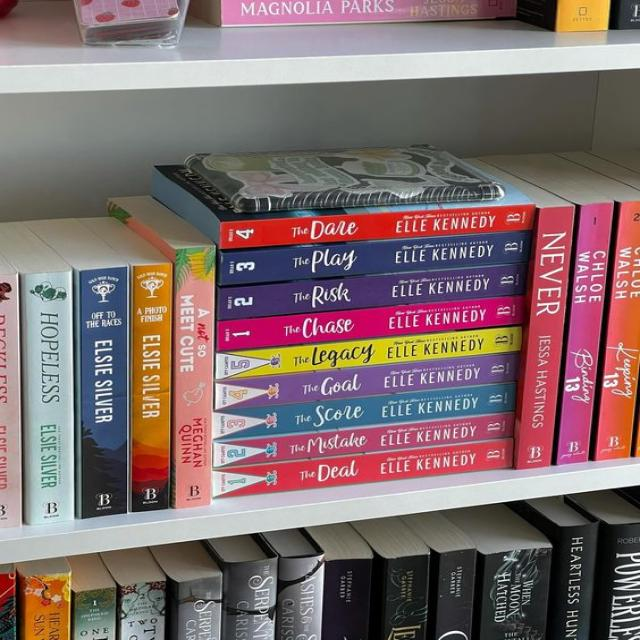book: (212, 439, 512, 497), (212, 381, 515, 438), (218, 295, 526, 351), (214, 412, 513, 469), (219, 265, 527, 319), (216, 354, 516, 409), (218, 327, 522, 380), (220, 234, 530, 285), (554, 203, 613, 464), (515, 205, 573, 468), (74, 268, 129, 518), (20, 271, 74, 524), (221, 205, 536, 248), (593, 201, 639, 459), (130, 263, 171, 510), (175, 247, 211, 506), (0, 274, 22, 527), (485, 555, 547, 640), (557, 525, 597, 640), (223, 561, 278, 640), (323, 559, 375, 640), (380, 555, 429, 640), (606, 525, 640, 640), (279, 557, 320, 640), (435, 549, 471, 640), (23, 575, 68, 640), (175, 582, 223, 640), (120, 586, 165, 640), (76, 593, 116, 640), (0, 572, 17, 639)
